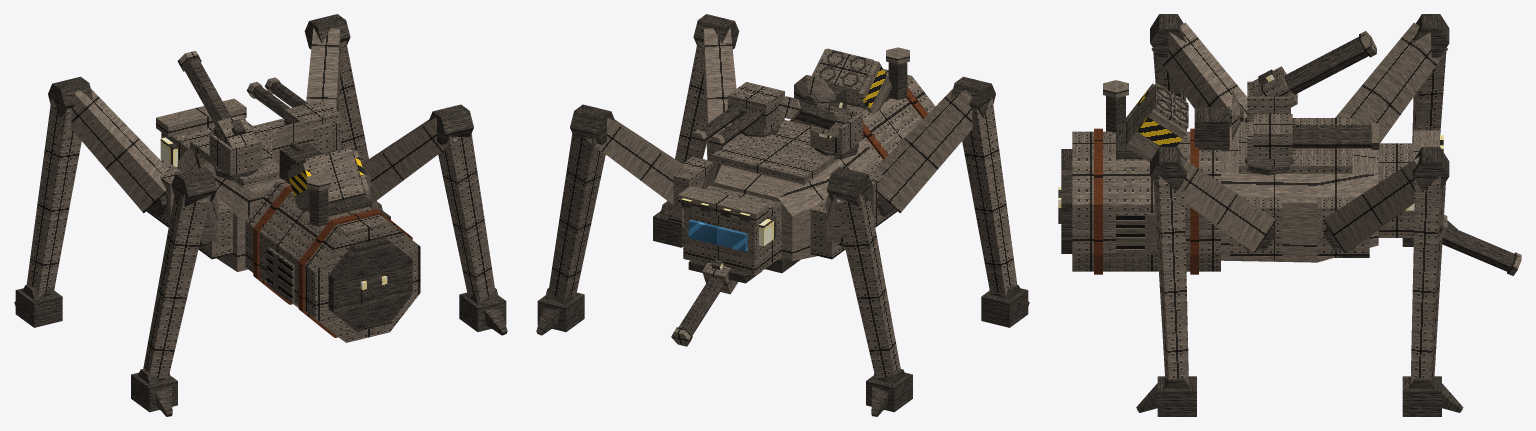
Rendered from funnel_web.glb.
The picture shows the model from 3 angles, left to right: view 1: azimuth 30°, elevation 25°; view 2: azimuth 150°, elevation 25°; view 3: azimuth 270°, elevation 25°; orthographic projection. The views are drawn at different scales.
Visible parts, largest first — view 1: boiler, shin, shin.002, thigh, tail_cap, shin.003, thigh.003, carapace, thigh.001, web_rack, shin.001, deck (+29 smaller); view 2: shin.002, shin, thigh.002, carapace, shin.001, deck, head, thigh.001, boiler, thigh.003, shin.003, web_rack (+26 smaller); view 3: boiler, carapace, shin.003, shin.001, thigh, thigh.002, thigh.003, thigh.001, deck, barrel.001, receiver.002, head (+26 smaller).
Boxes of the visible parts, box(x1,y1,x2,y2) form: boiler: box(245, 179, 420, 342); shin: box(26, 96, 81, 297); shin.002: box(143, 193, 211, 378); thigh: box(71, 89, 168, 213); tail_cap: box(328, 237, 412, 331); shin.003: box(438, 134, 495, 302); thigh.003: box(362, 107, 457, 203); carapace: box(177, 146, 282, 271); thigh.001: box(306, 27, 340, 111); web_rack: box(290, 147, 365, 204); shin.001: box(338, 41, 378, 210); deck: box(190, 118, 284, 187); shin.002: box(962, 96, 1017, 297); shin: box(832, 193, 900, 378); thigh.002: box(875, 89, 972, 213); carapace: box(701, 120, 880, 261); shin.001: box(548, 134, 605, 302); deck: box(712, 120, 839, 184); head: box(683, 185, 781, 276); thigh.001: box(586, 107, 689, 204); boiler: box(792, 69, 935, 162); thigh.003: box(703, 27, 738, 159); shin.003: box(664, 41, 706, 213); web_rack: box(813, 48, 874, 106); boiler: box(1072, 131, 1220, 271); carapace: box(1221, 127, 1378, 262); shin.003: box(1153, 175, 1188, 384); shin.001: box(1410, 175, 1445, 384); thigh: box(1335, 23, 1447, 143); thigh.002: box(1151, 22, 1247, 126); thigh.003: box(1180, 157, 1276, 252); thigh.001: box(1323, 157, 1419, 252); deck: box(1238, 118, 1352, 173); barrel.001: box(1285, 37, 1368, 94); receiver.002: box(1253, 114, 1292, 158); head: box(1378, 143, 1414, 237).
Size of the model in its own units: 100 by 68.35 by 106.
Materials: 9 (9 with a texture image).
